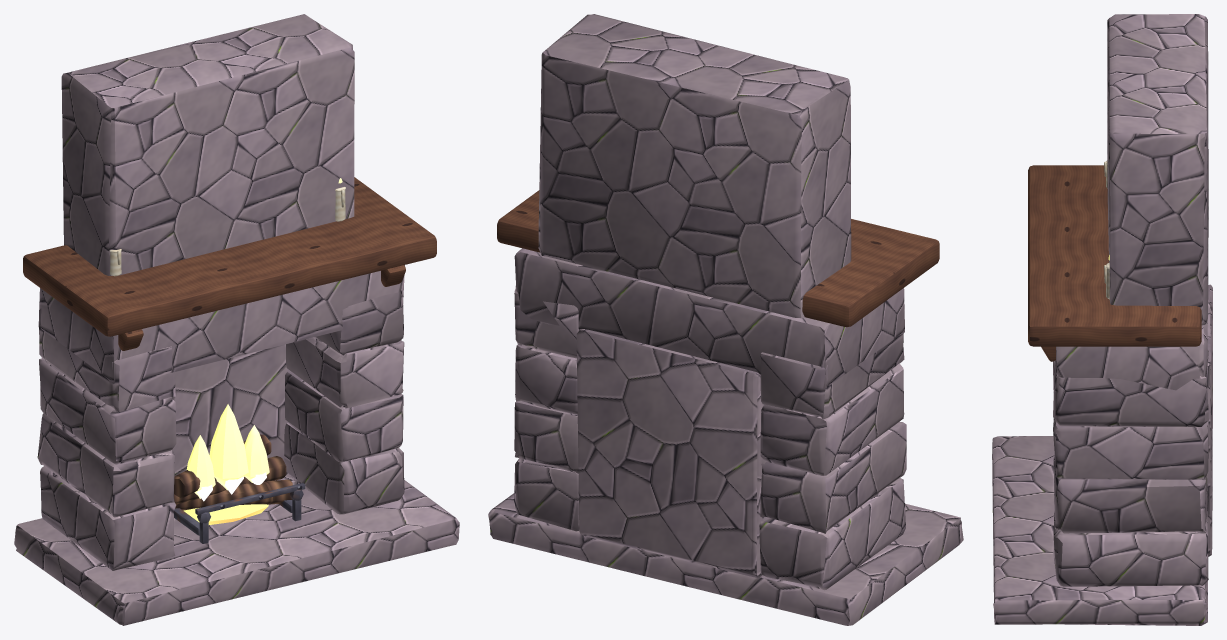
Rendered from hearth.gltf.
3 views of the same model, side by side, from view 1: azimuth 30°, elevation 25°; view 2: azimuth 150°, elevation 25°; view 3: azimuth 270°, elevation 25° (orthographic). The views are drawn at different scales.
Parts seen in each view (by area): view 1: hearth_mesh, FLAME_hearth; view 2: hearth_mesh; view 3: hearth_mesh.
Part boxes in pixels (x1,y1,x2,y2): hearth_mesh: (14, 14, 459, 625); FLAME_hearth: (186, 404, 269, 501); hearth_mesh: (488, 14, 963, 625); hearth_mesh: (992, 14, 1212, 625).
Size of what is drawn, in the model's own units: 2.21 by 2.92 by 1.23.
9 materials, 5 textured.
